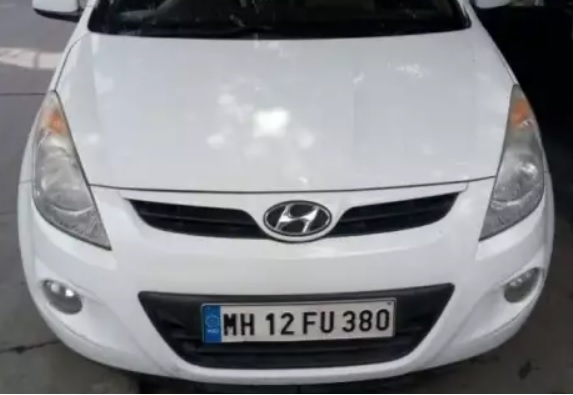licenseplate: (199, 299, 398, 341)
